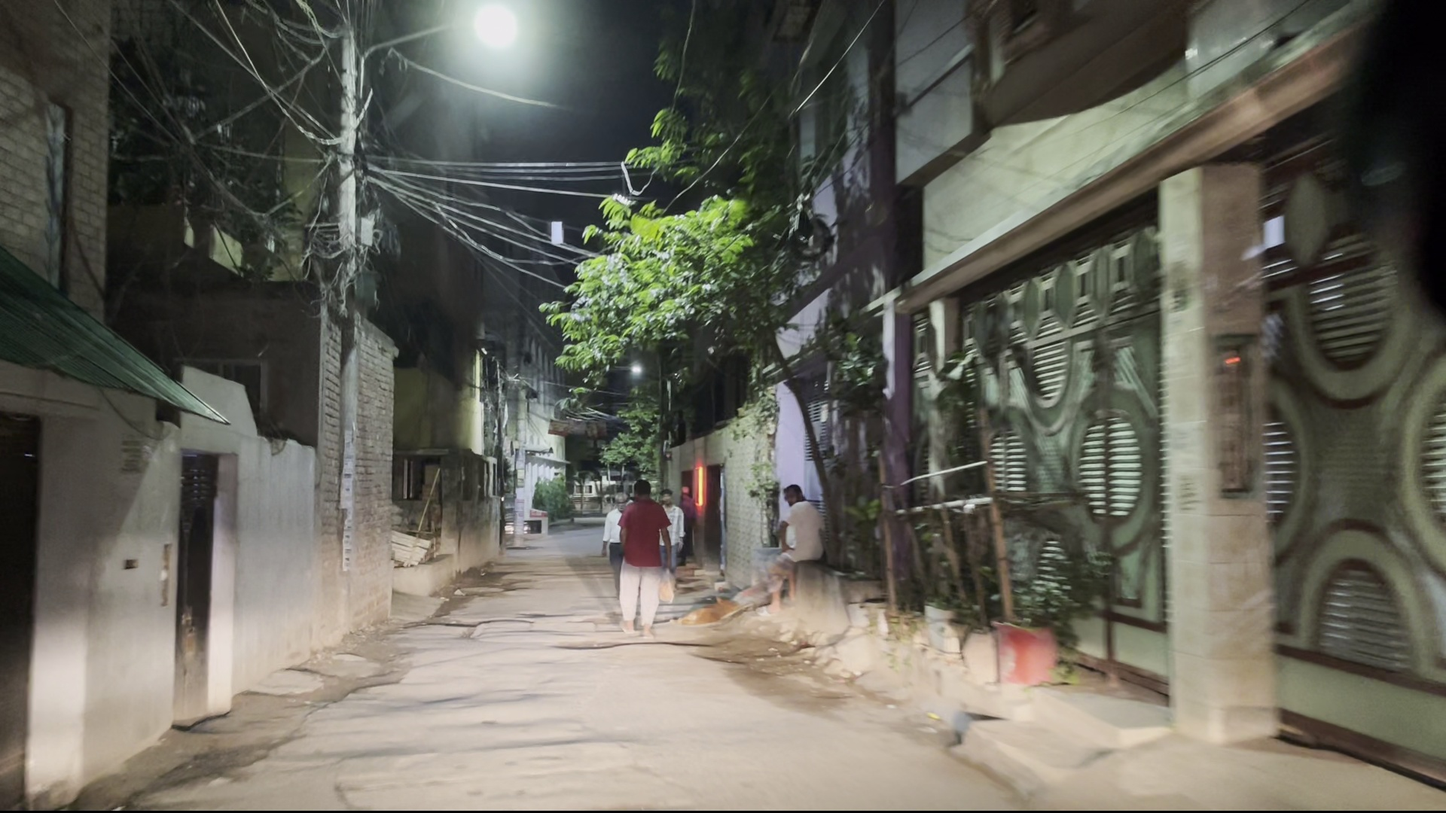person: (616, 473, 676, 641), (767, 478, 829, 610)
